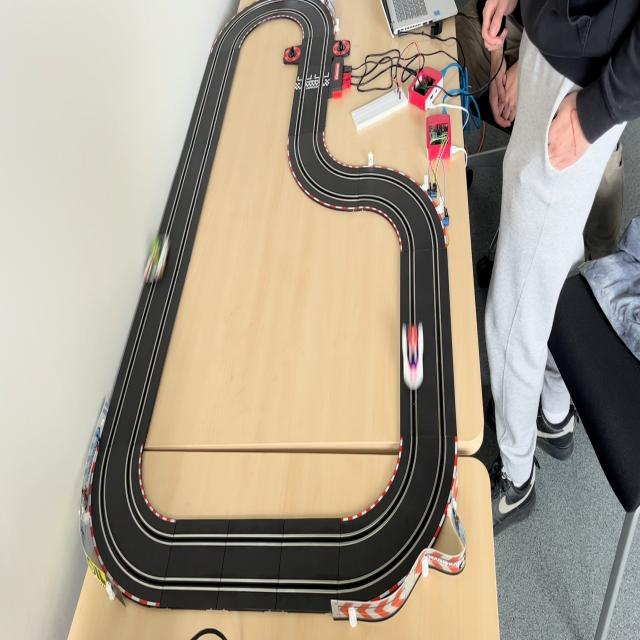mario: (401, 319, 426, 392)
yoshi: (144, 234, 174, 284)
